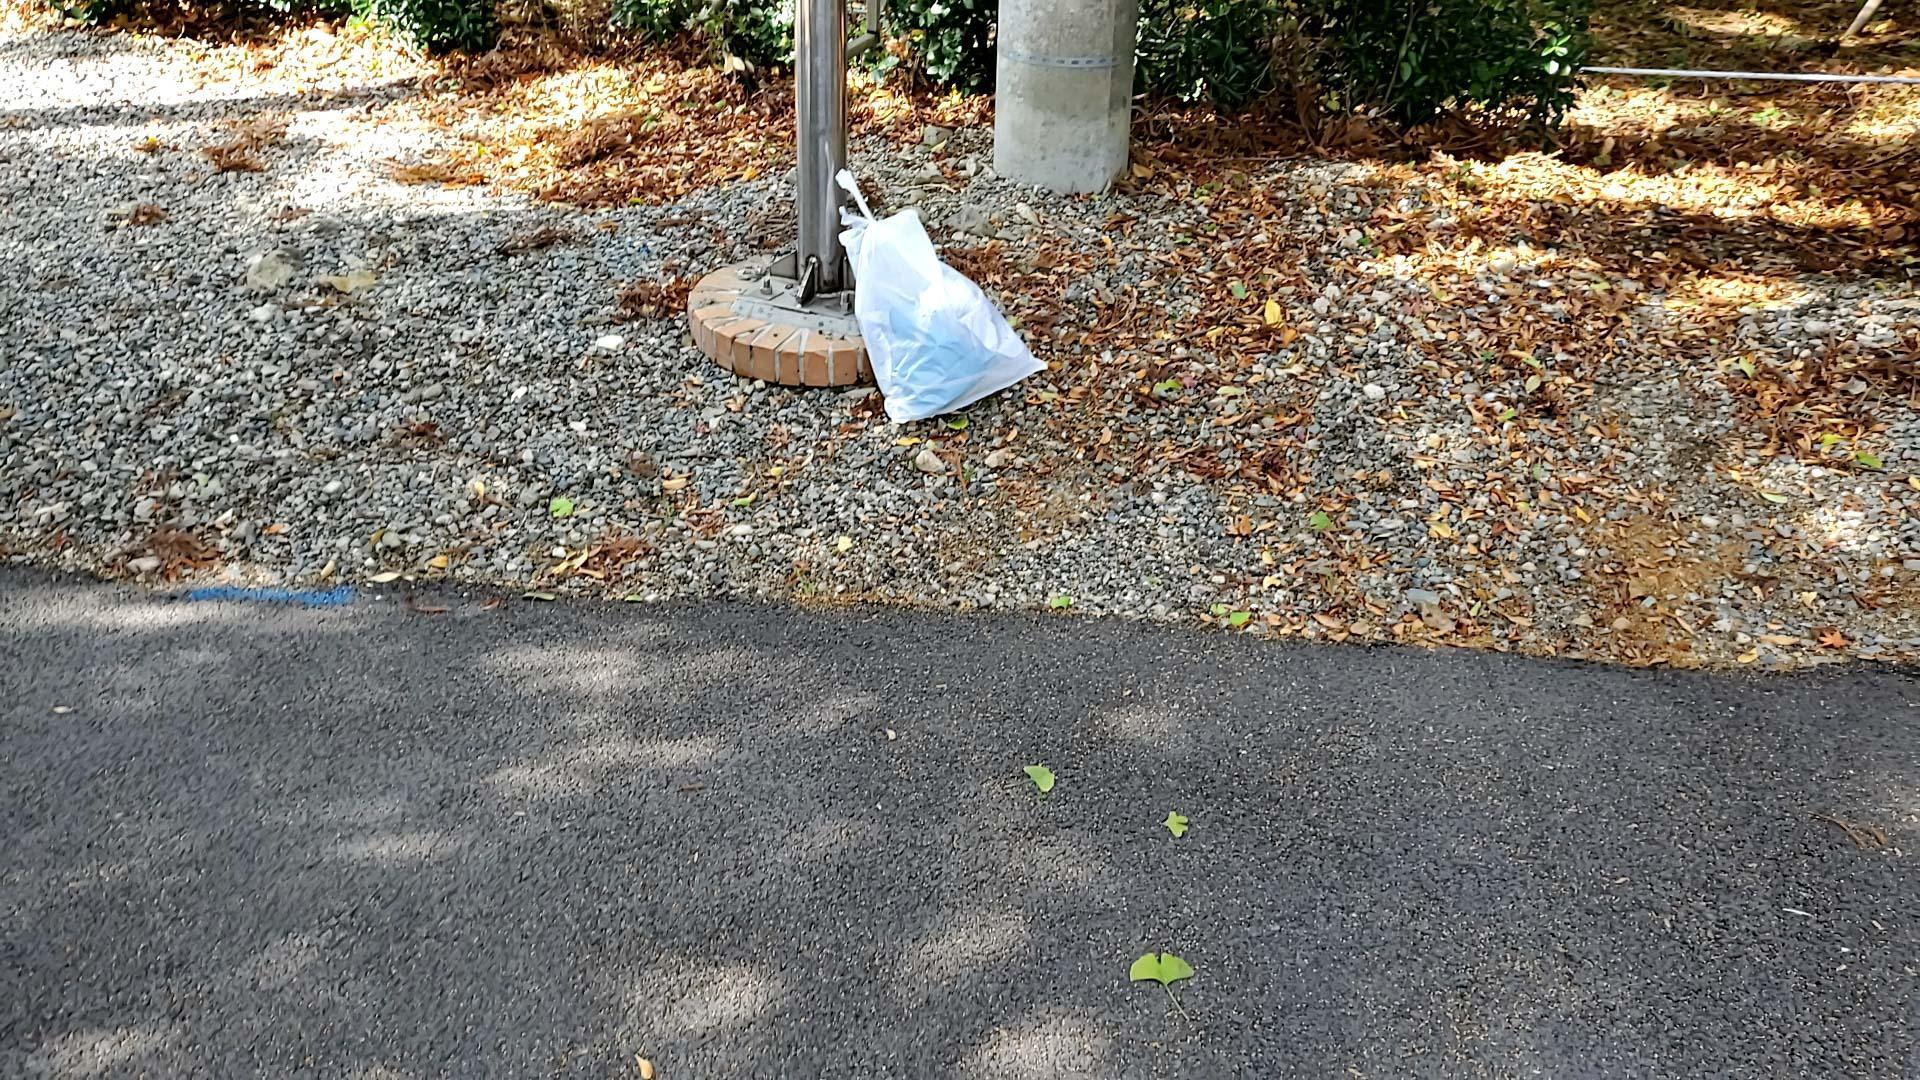white_bag: (822, 157, 1058, 430)
